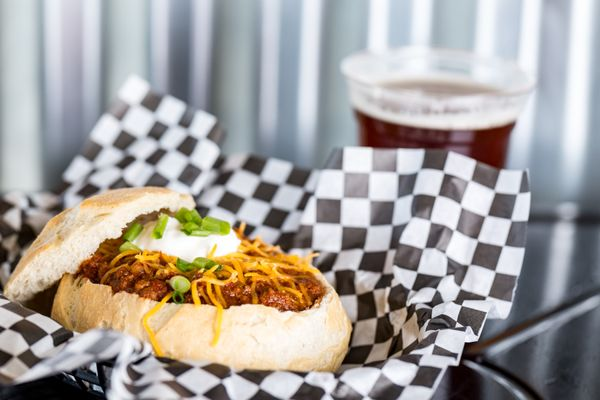soup: (4, 186, 353, 374)
